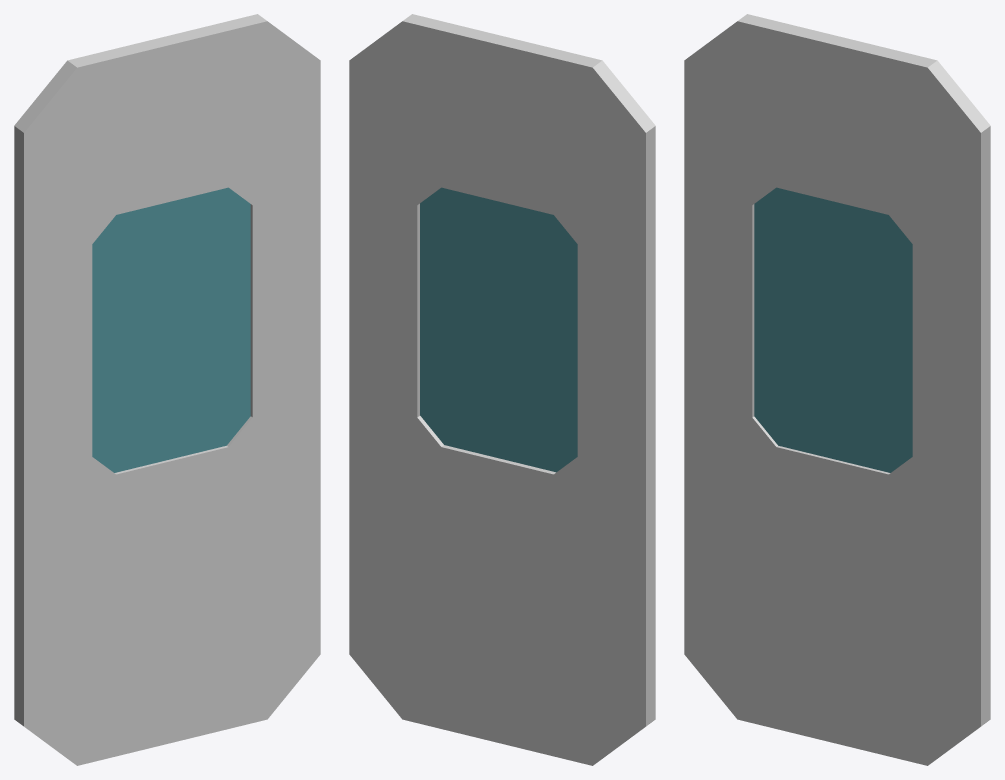
The model's file is Train Door Dynamic.fbx.
3 renders of one model, left to right at view 1: azimuth 30°, elevation 25°; view 2: azimuth 150°, elevation 25°; view 3: azimuth 330°, elevation 25°, orthographic.
Visible parts, largest first — view 1: TrainDoor01, WindowMesh (8); view 2: TrainDoor01, WindowMesh (8); view 3: TrainDoor01, WindowMesh (8).
Part boxes in pixels (left/top/right/bottom): TrainDoor01: left=14, top=14, right=320, bottom=765; WindowMesh (8): left=92, top=187, right=250, bottom=472; TrainDoor01: left=349, top=14, right=655, bottom=765; WindowMesh (8): left=420, top=187, right=577, bottom=472; TrainDoor01: left=684, top=14, right=990, bottom=765; WindowMesh (8): left=754, top=187, right=912, bottom=472.
Bounding box in the file's own units: 0.7531 × 1.69 × 0.0433.
2 materials, 1 textured.
